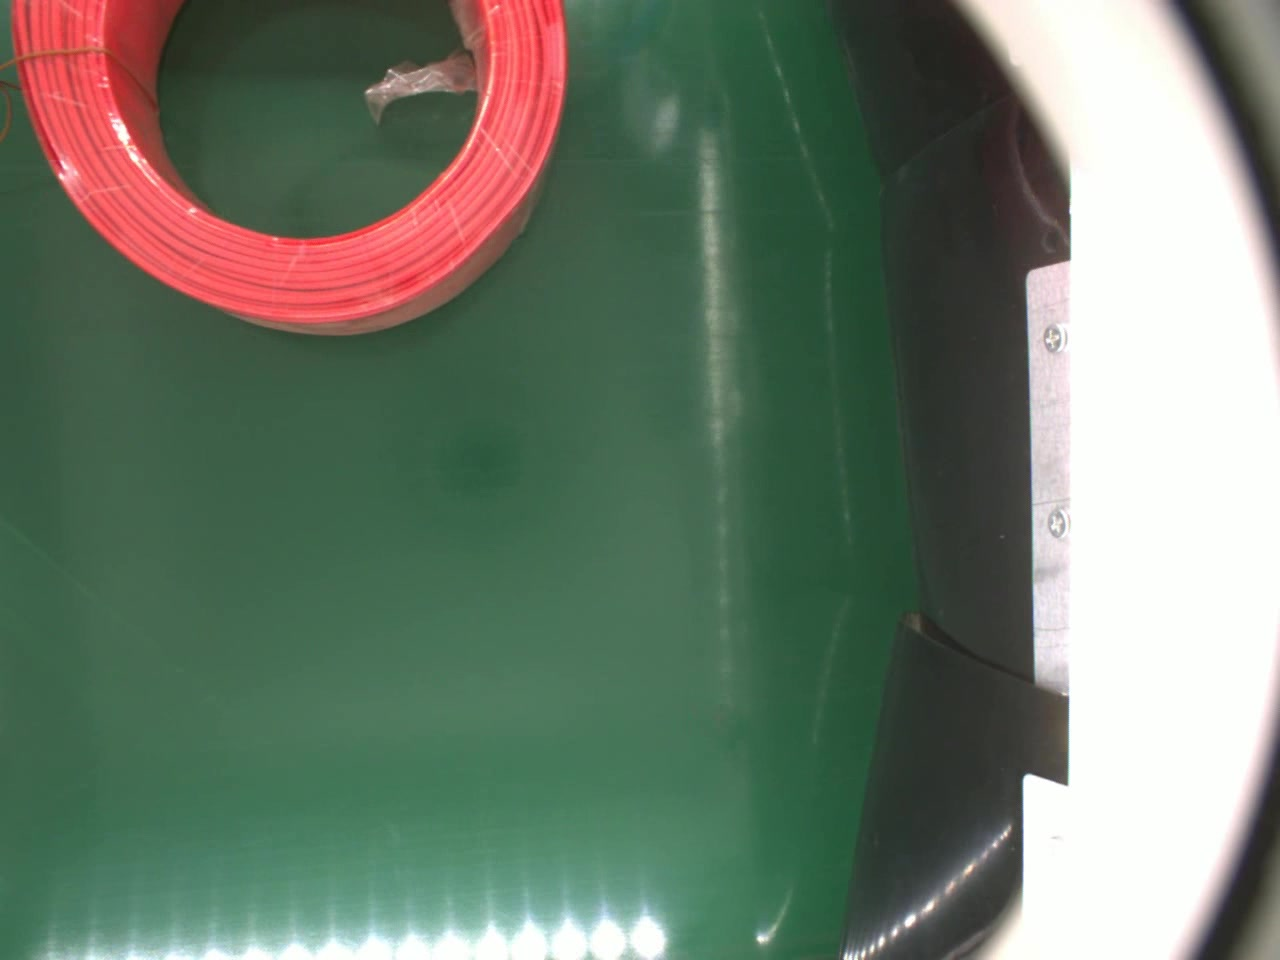red: (10, 1, 564, 336)
